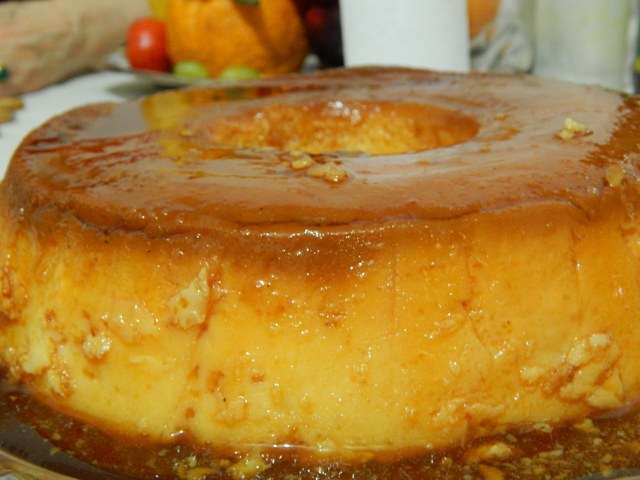tomato: (126, 16, 170, 71)
